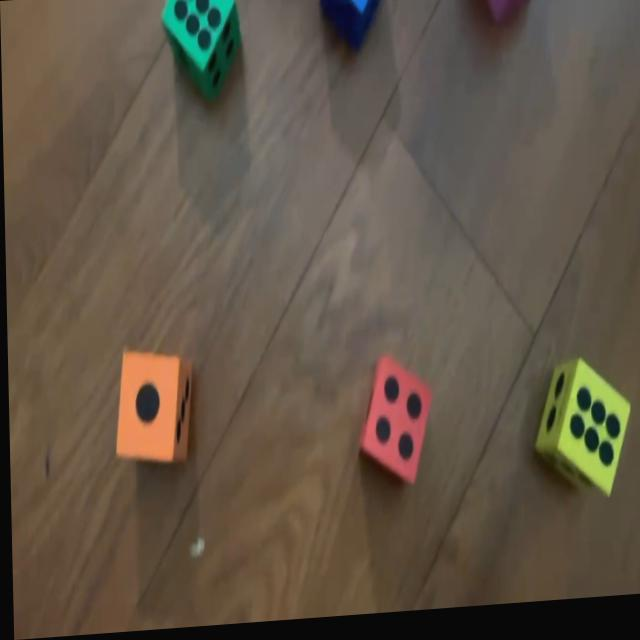blue_block: (322, 0, 388, 59)
red_block: (355, 354, 430, 490)
